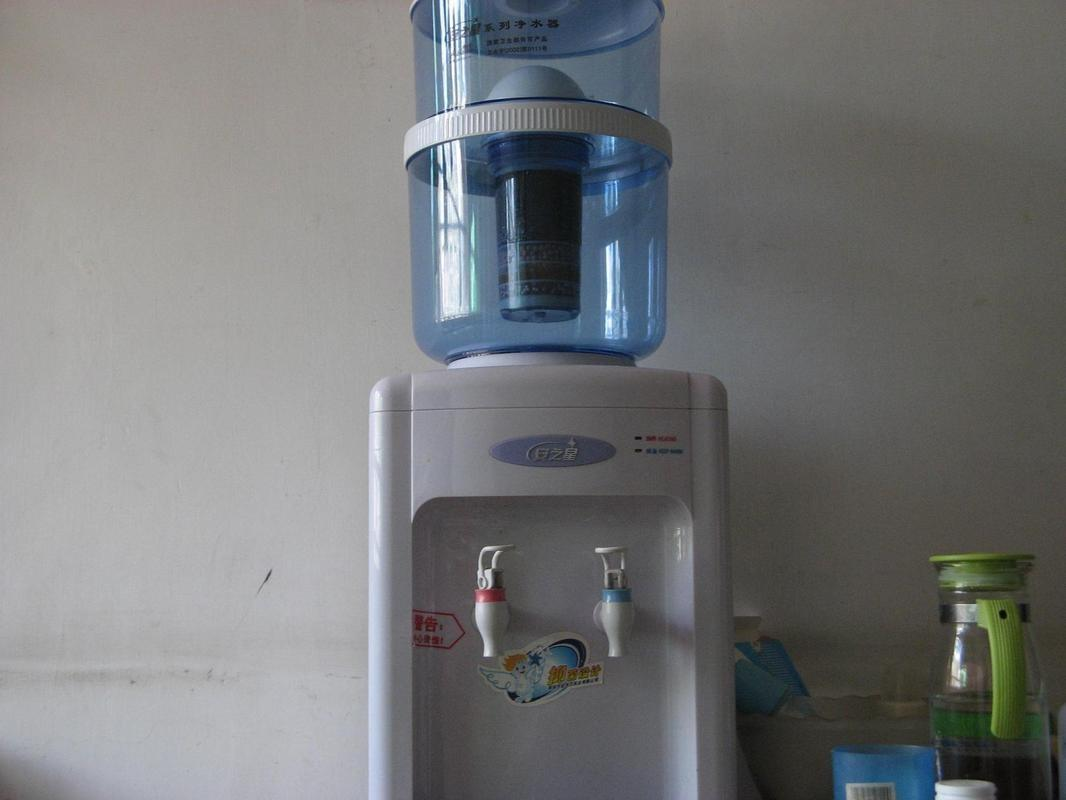Dispenser: (367, 0, 730, 799)
